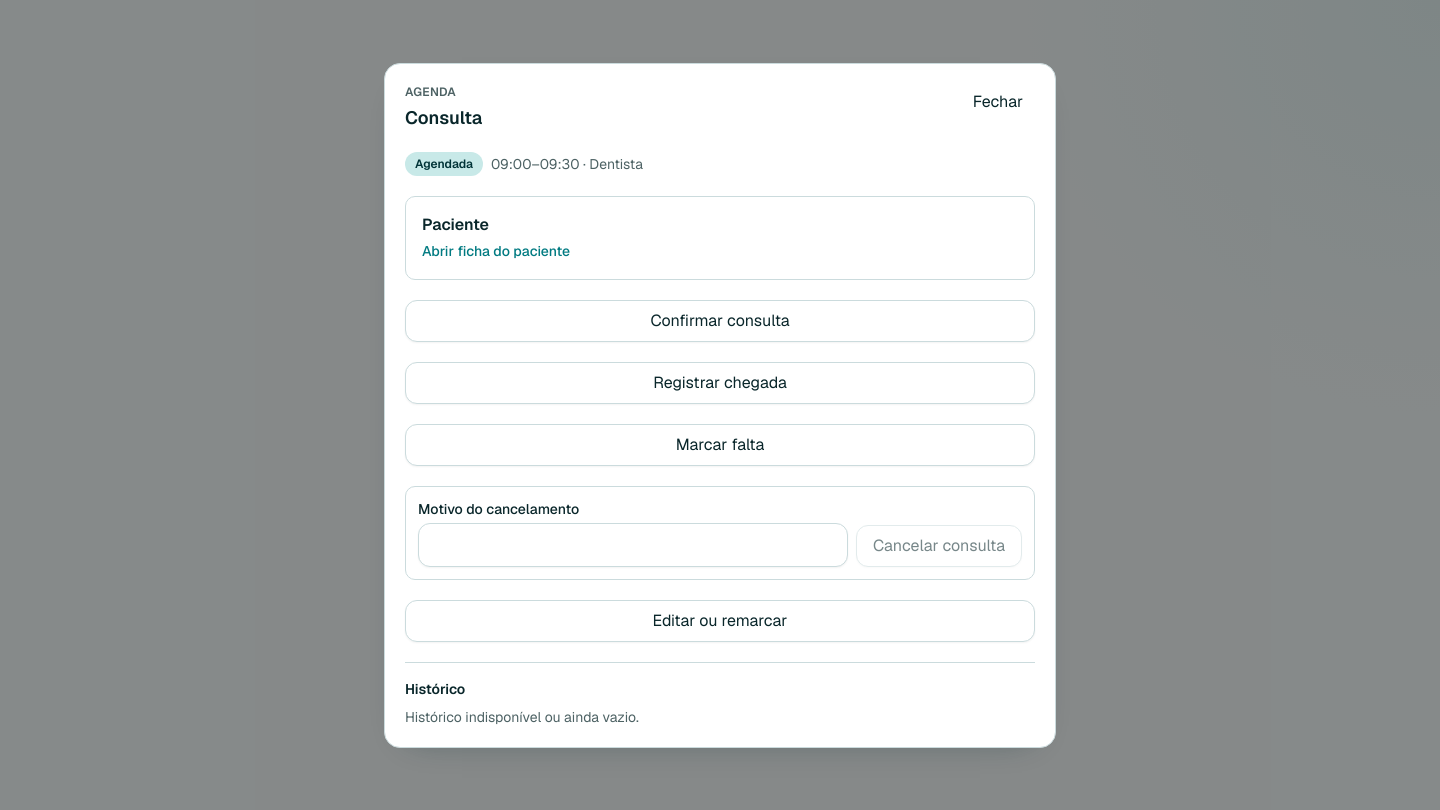
Scenario: waits for the refreshed appointment version before closing
The width and height of the screenshot is (1440, 810).
Click the button "Confirmar consulta" at x=720, y=320, box 405,300 -> 1035,342
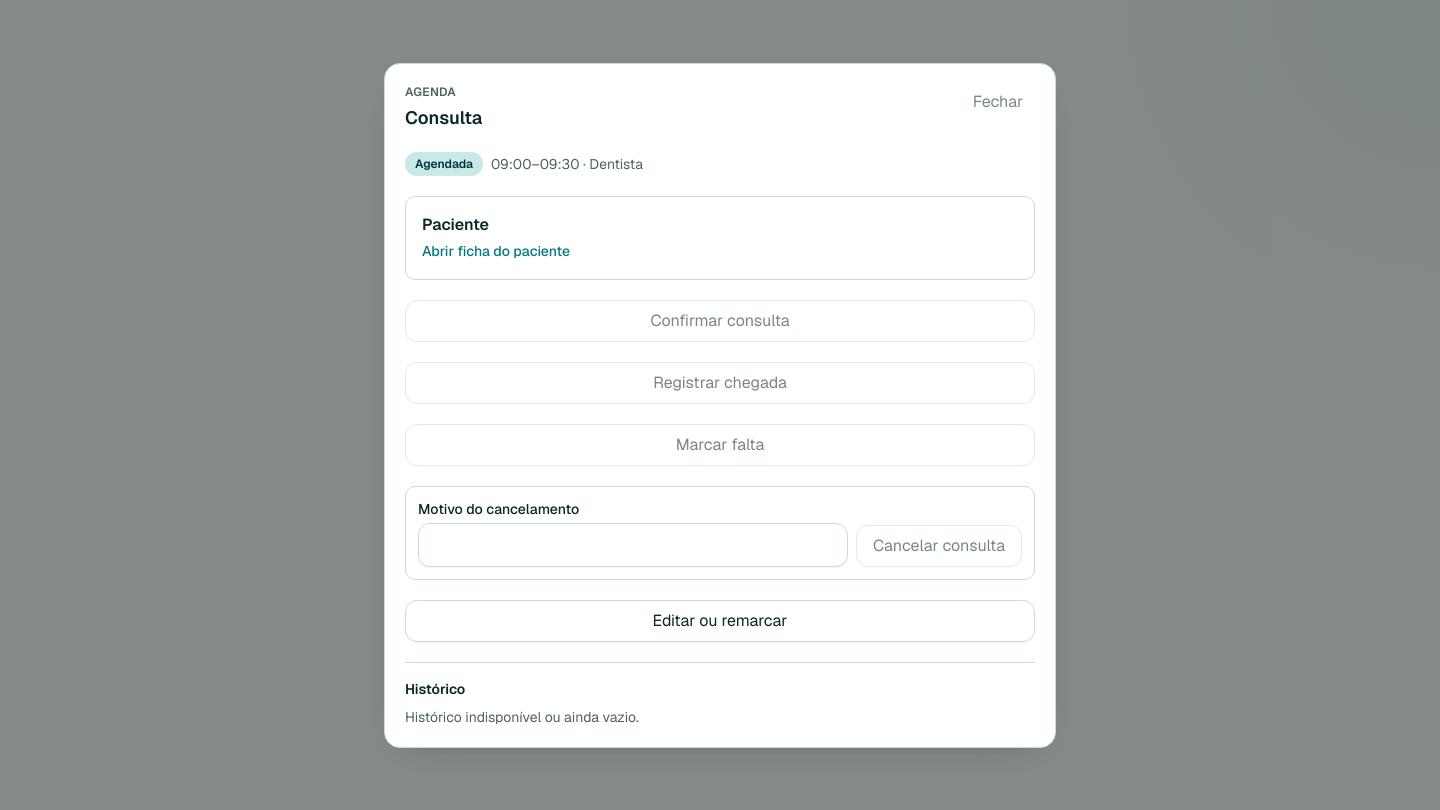
Expected: the button "Confirmar consulta" is disabled, 405,300 -> 1035,342
